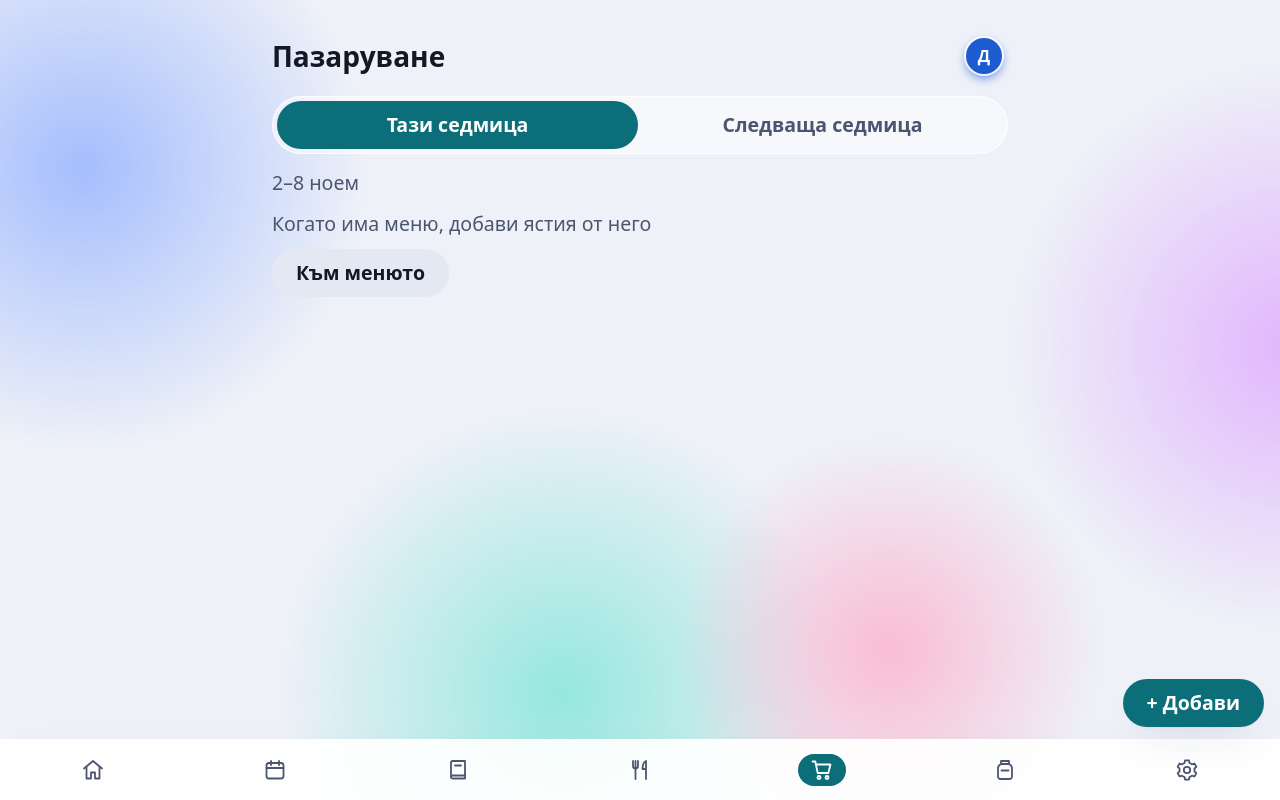
Test: ShoppingWeek › седмица без меню: ръчен ред се добавя и се вижда в списъка, подсказката остава
Click the button "+ Добави" at x=1193, y=703, box [1122, 679, 1264, 727]
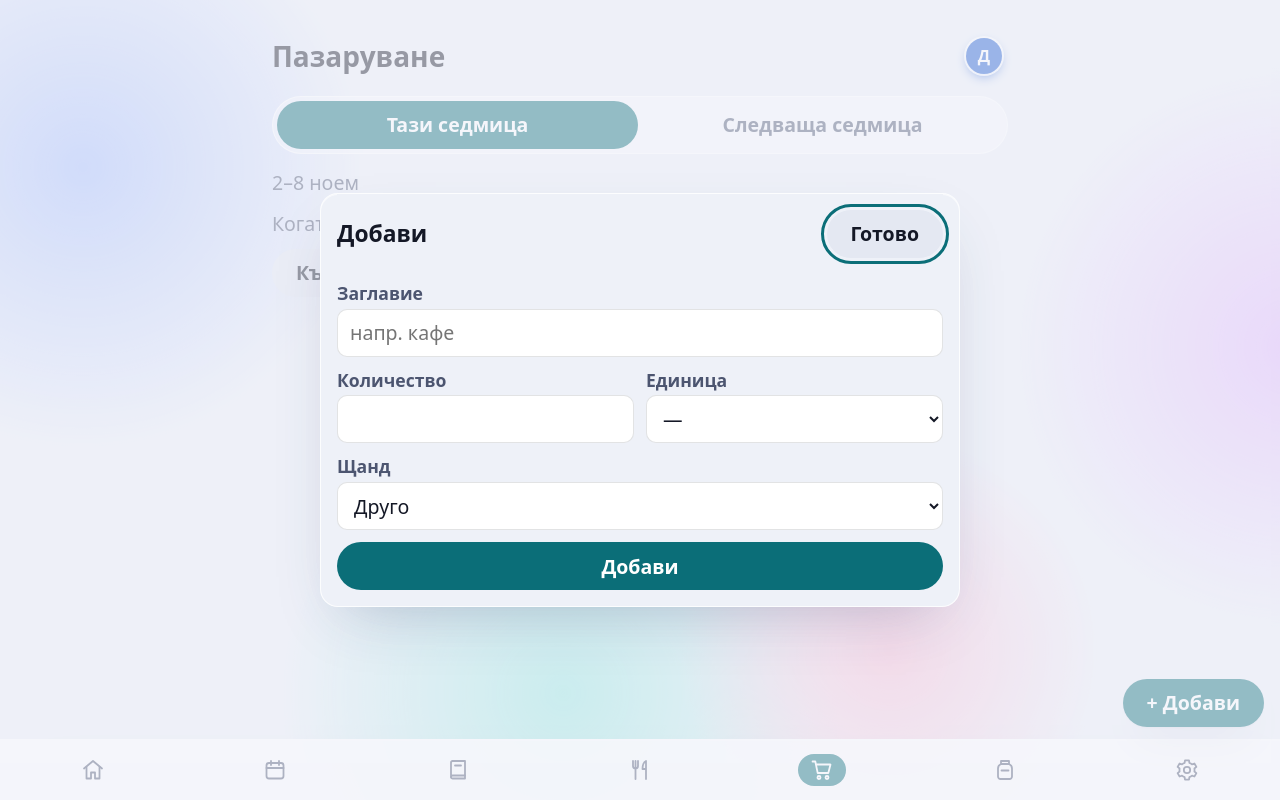
Type "кафе" into the field labelled "Заглавие" at x=640, y=333, box [337, 309, 943, 357]
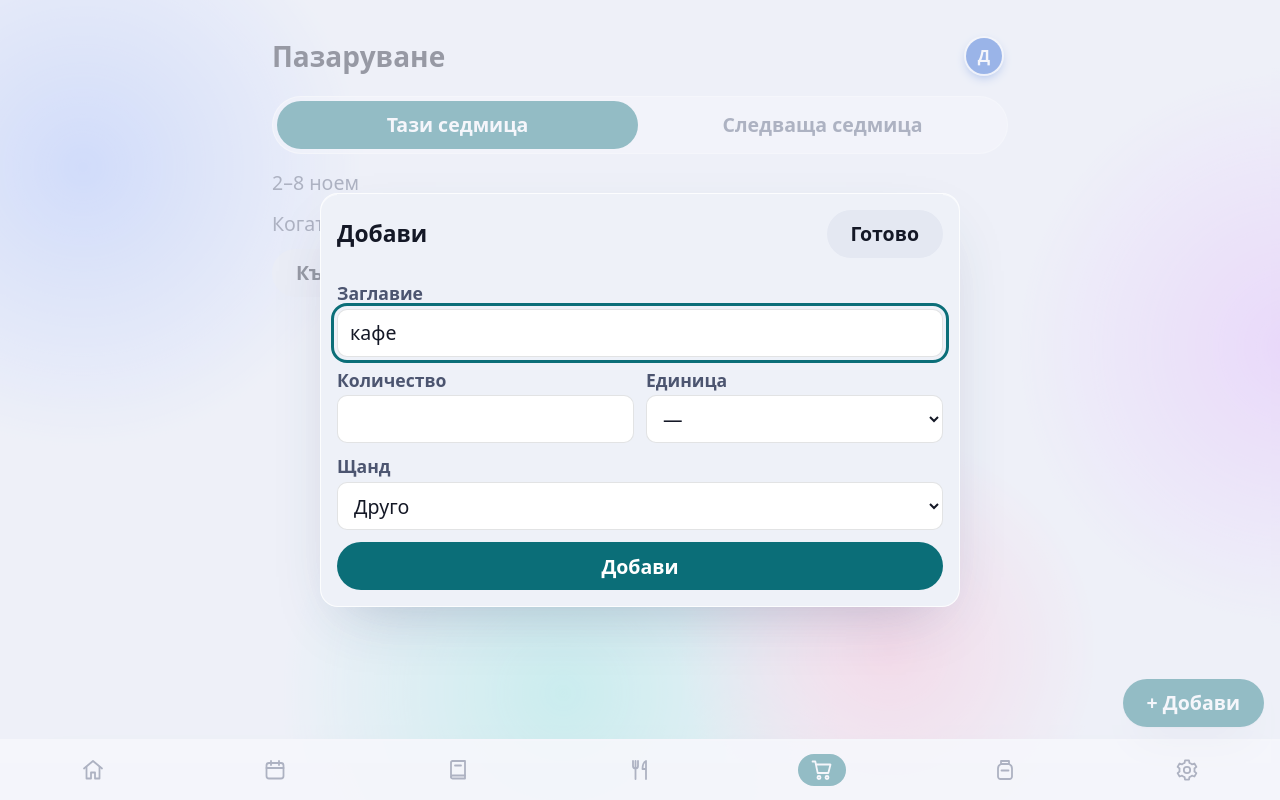
Click the button "Добави" at x=640, y=566, box [337, 542, 943, 590]
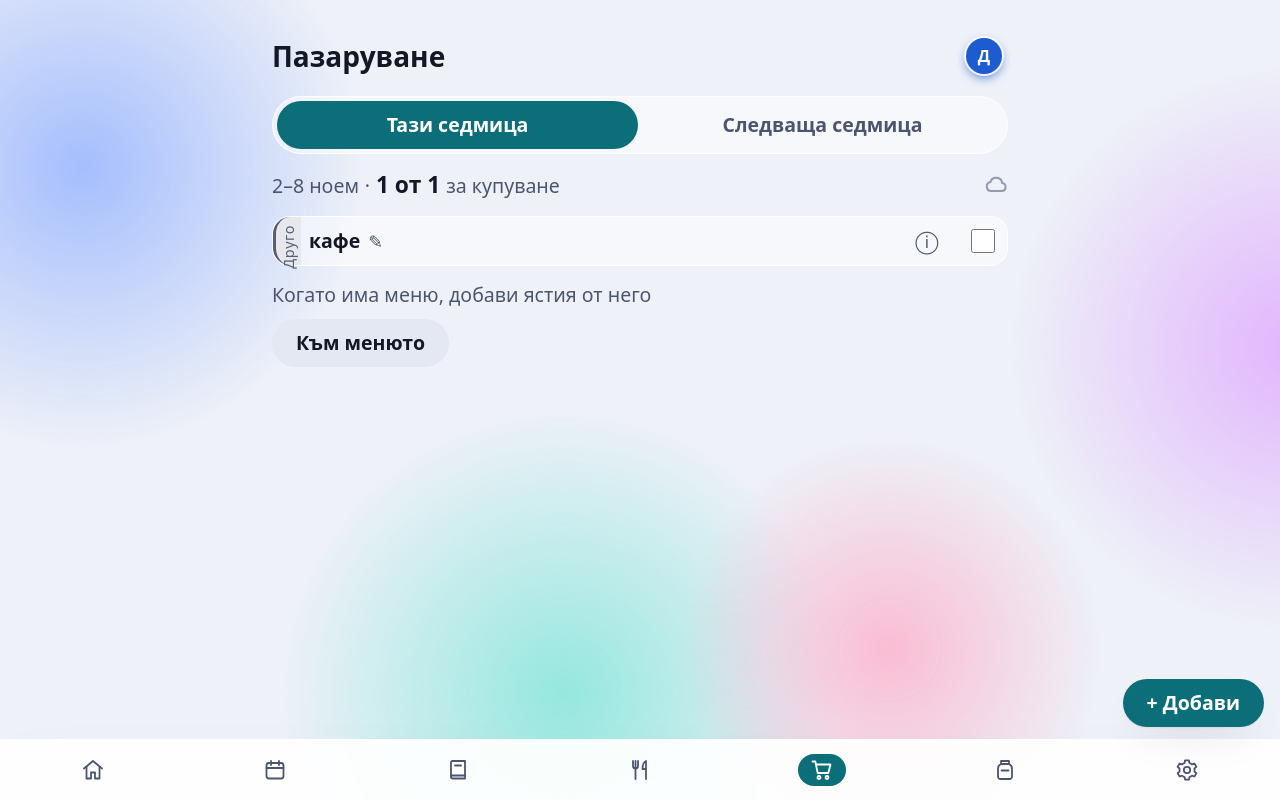
Expected: the text "Когато има меню, добави ястия от него" is shown, [272, 282, 651, 307]
Result: the checkbox labelled "кафе" is shown at [971, 229, 995, 253]
Result: the text "1 от 1" is shown at [376, 170, 440, 200]
